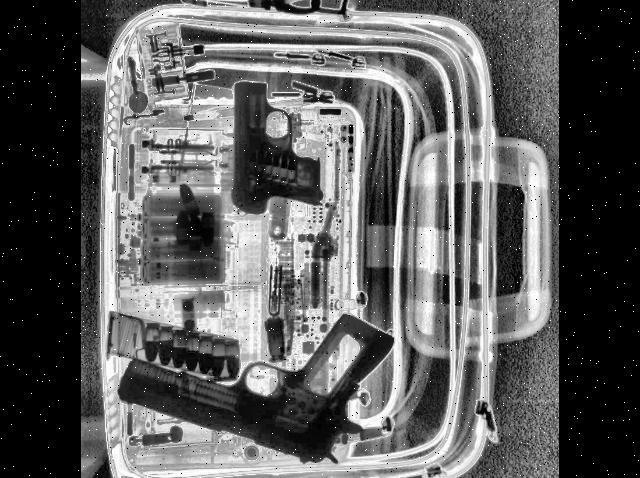Gun: (114, 307, 396, 465), (232, 78, 324, 240)
